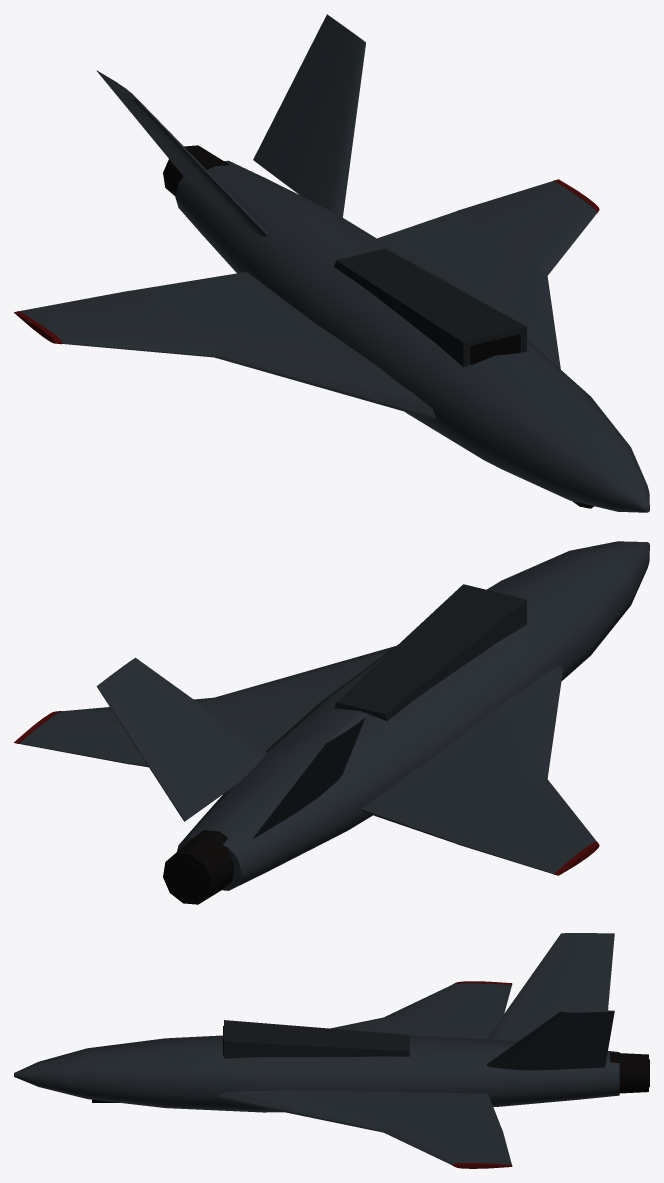
Rendered from ACO_SubDrone.fbx.
3 renders of one model, top to bottom at view 1: azimuth 30°, elevation 25°; view 2: azimuth 150°, elevation 25°; view 3: azimuth 270°, elevation 25°, orthographic. The views are drawn at different scales.
Visible parts, largest first — view 1: SD_Body; view 2: SD_Body; view 3: SD_Body.
Boxes of the visible parts, x1,y1,x2,y2 form: SD_Body: [14, 14, 649, 512]; SD_Body: [14, 541, 649, 904]; SD_Body: [14, 933, 649, 1168].
Bounding box in the file's own units: 4.44 × 1.48 × 6.51.
Materials: 1 (1 with a texture image).
